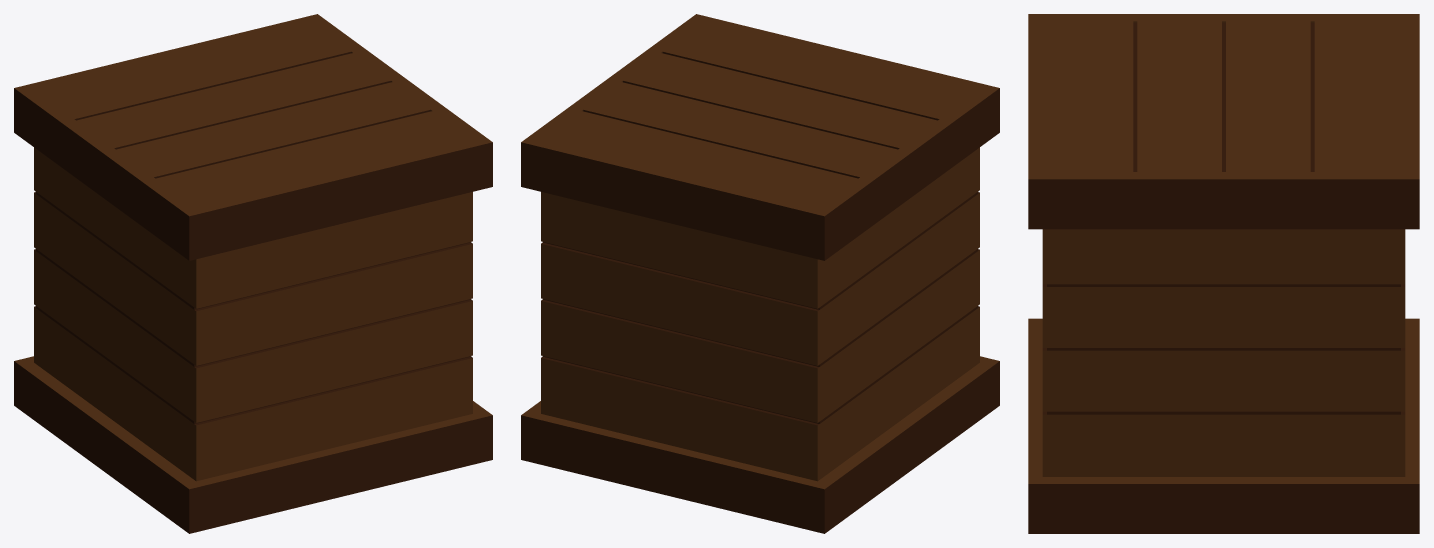
The model's file is caixa.fbx.
3 renders of one model, left to right at view 1: azimuth 30°, elevation 25°; view 2: azimuth 150°, elevation 25°; view 3: azimuth 270°, elevation 25°, orthographic. The views are drawn at different scales.
Visible parts, largest first — view 1: Cube; view 2: Cube; view 3: Cube.
Boxes of the visible parts, x1,y1,x2,y2 form: Cube: [14, 14, 492, 533]; Cube: [521, 14, 999, 533]; Cube: [1028, 14, 1419, 533].
Bounding box in the file's own units: 100 × 100 × 100.
